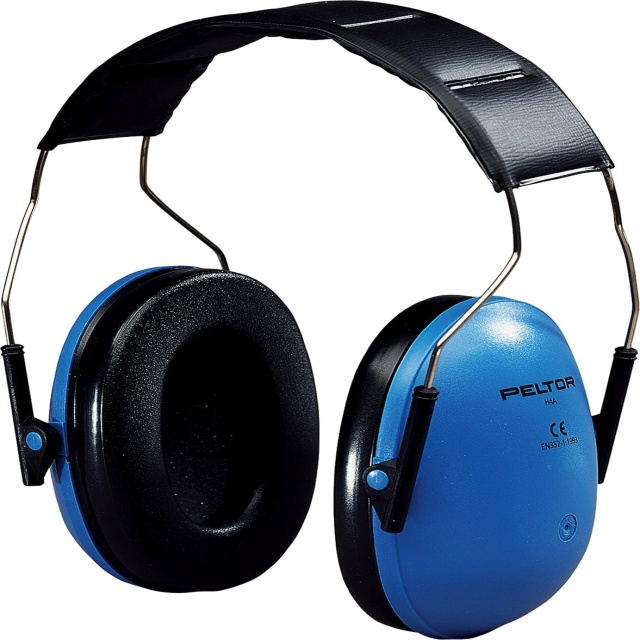Hearing_Protection: (4, 8, 638, 637)
